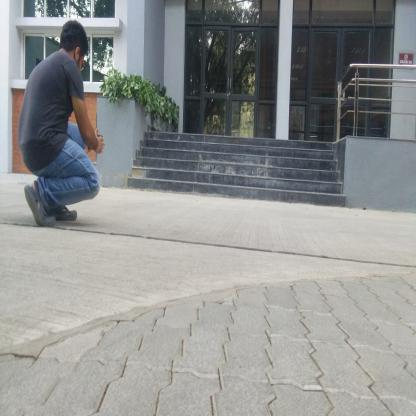stairs: (145, 135, 336, 201)
